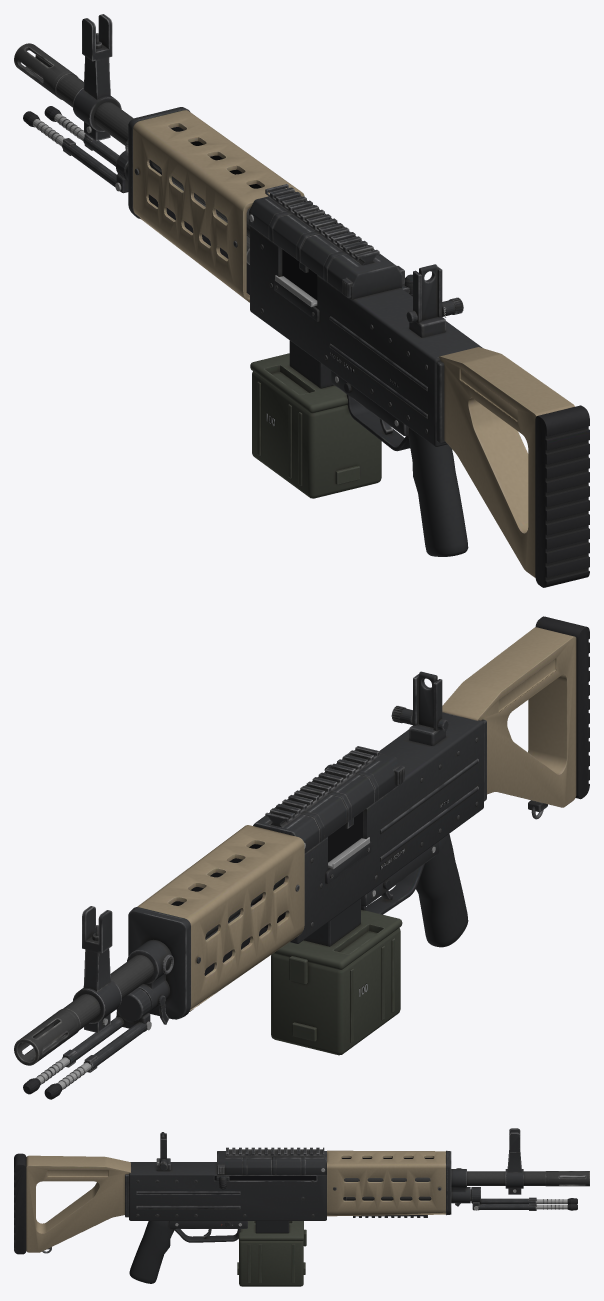
File: mg_built.glb
The picture shows the model from 3 angles, top to bottom: view 1: azimuth 30°, elevation 25°; view 2: azimuth 150°, elevation 25°; view 3: azimuth 270°, elevation 25°; orthographic projection. The views are drawn at different scales.
Parts seen in each view (by area): view 1: Body, Magazine, Sights, Feed; view 2: Body, Magazine, Sights, Feed; view 3: Body, Magazine, Sights.
Part boxes in pixels (x1,y1,x2,y2): Body: (14,14,589,587); Magazine: (250,340,381,498); Sights: (406,264,463,337); Feed: (274,262,319,321); Body: (14,616,589,1099); Magazine: (271,898,402,1055); Sights: (391,671,448,745); Feed: (325,818,371,883); Body: (14,1128,589,1283); Magazine: (237,1221,306,1286); Sights: (156,1132,170,1171).
Bounding box in the file's own units: 0.0885 × 0.2578 × 0.89.
1 material, 1 textured.
